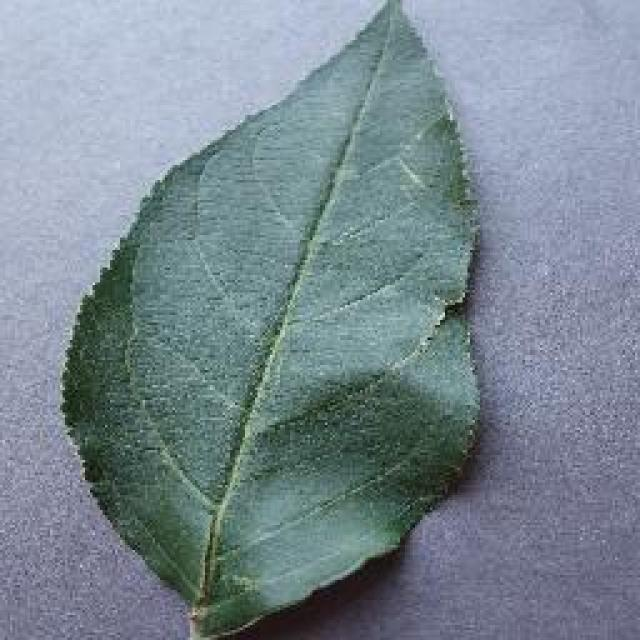apple scab disease: (58, 0, 488, 638)
